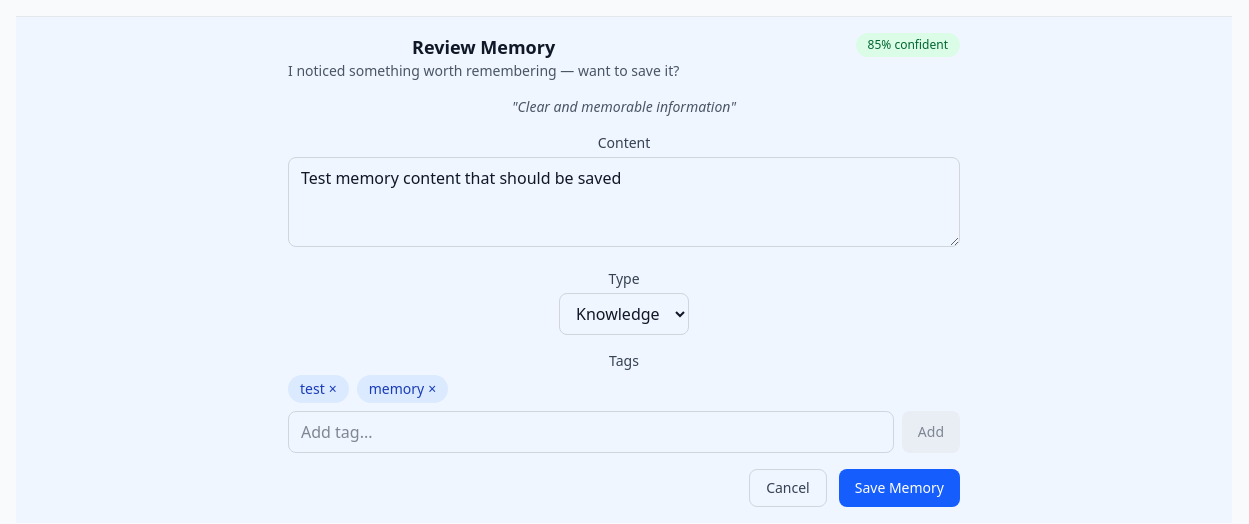
Test: MemoryExtraction › allows adding tags with Enter key
The width and height of the screenshot is (1249, 524).
In the field with test id "tag-input": x=591, y=432 [288,411,894,453], type "enter-tag"
Then press Enter
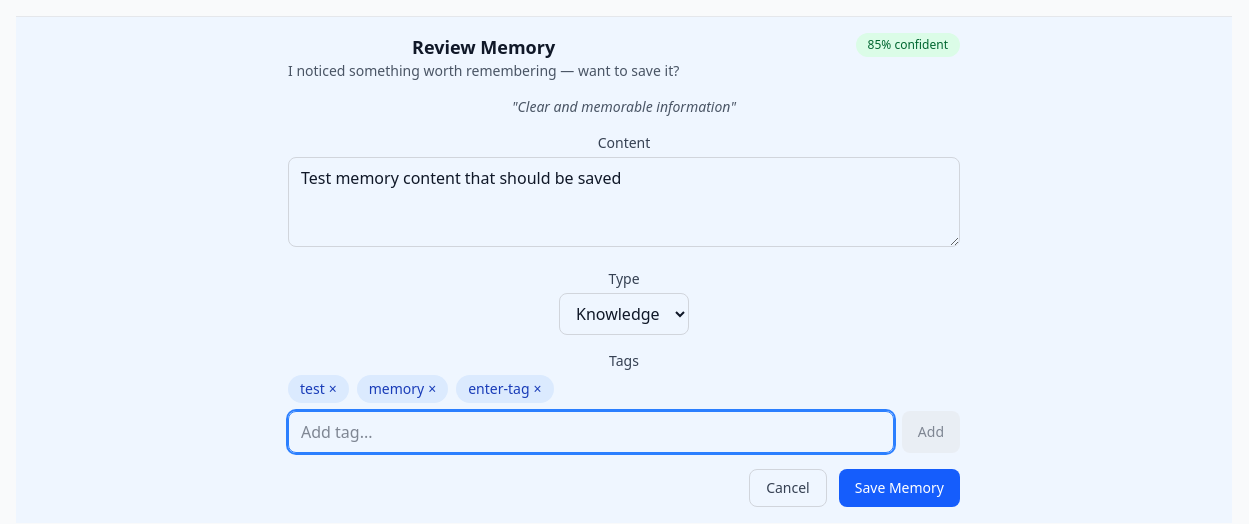
Now the text "enter-tag" is shown, box [468,379,530,398]
